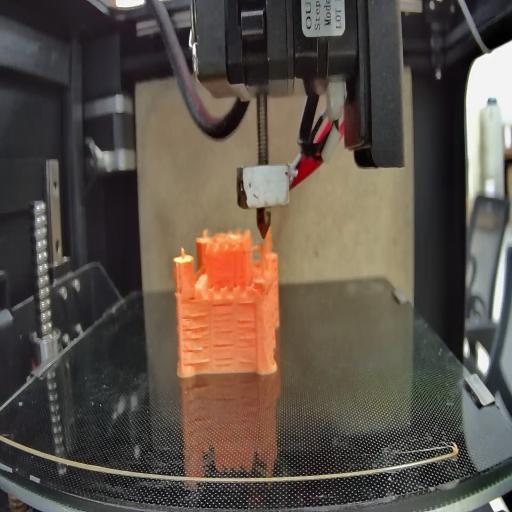cracks: (182, 313, 208, 366), (239, 315, 256, 368), (212, 302, 234, 336), (212, 341, 234, 367), (185, 292, 197, 303), (238, 299, 256, 306)
